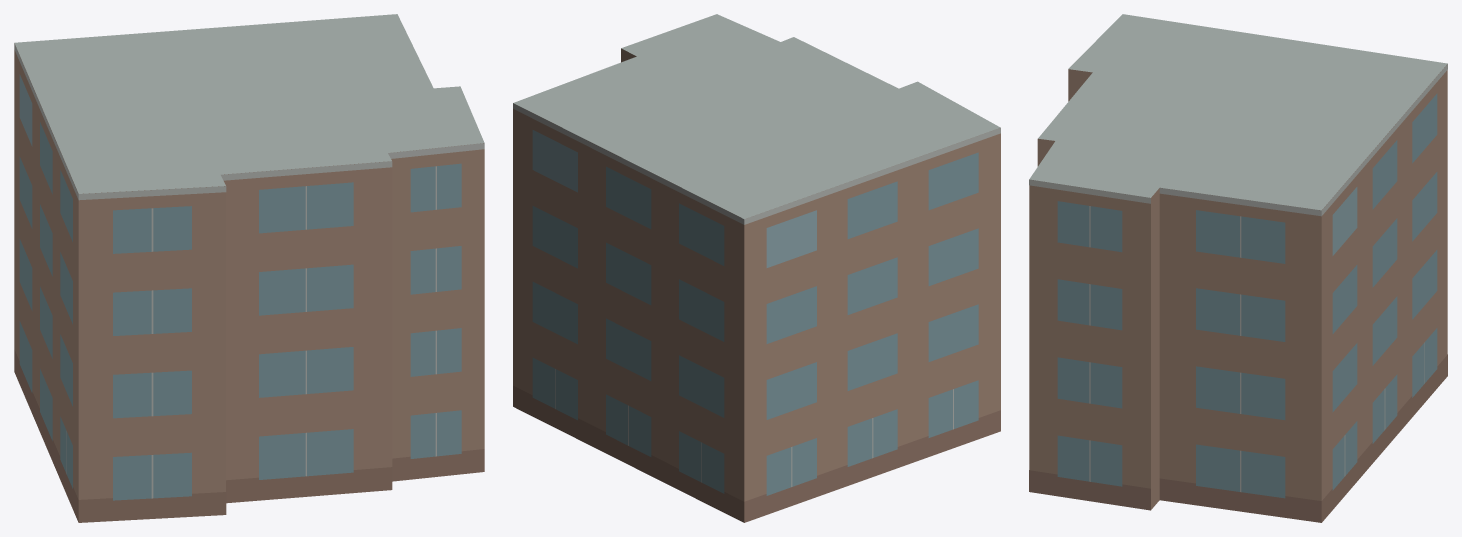
The model's file is survey-upis-32634753.glb.
3 renders of one model, left to right at view 1: azimuth 30°, elevation 25°; view 2: azimuth 150°, elevation 25°; view 3: azimuth 270°, elevation 25°, orthographic. The views are drawn at different scales.
Visible parts, largest first — view 1: survey-upis-32634753.tmp; view 2: survey-upis-32634753.tmp; view 3: survey-upis-32634753.tmp.
Part boxes in pixels (<box>): survey-upis-32634753.tmp: <box>14,14,484,522</box>; survey-upis-32634753.tmp: <box>513,14,1000,522</box>; survey-upis-32634753.tmp: <box>1029,14,1447,522</box>.
Bounding box in the file's own units: 17.39 × 12.9 × 15.67.
